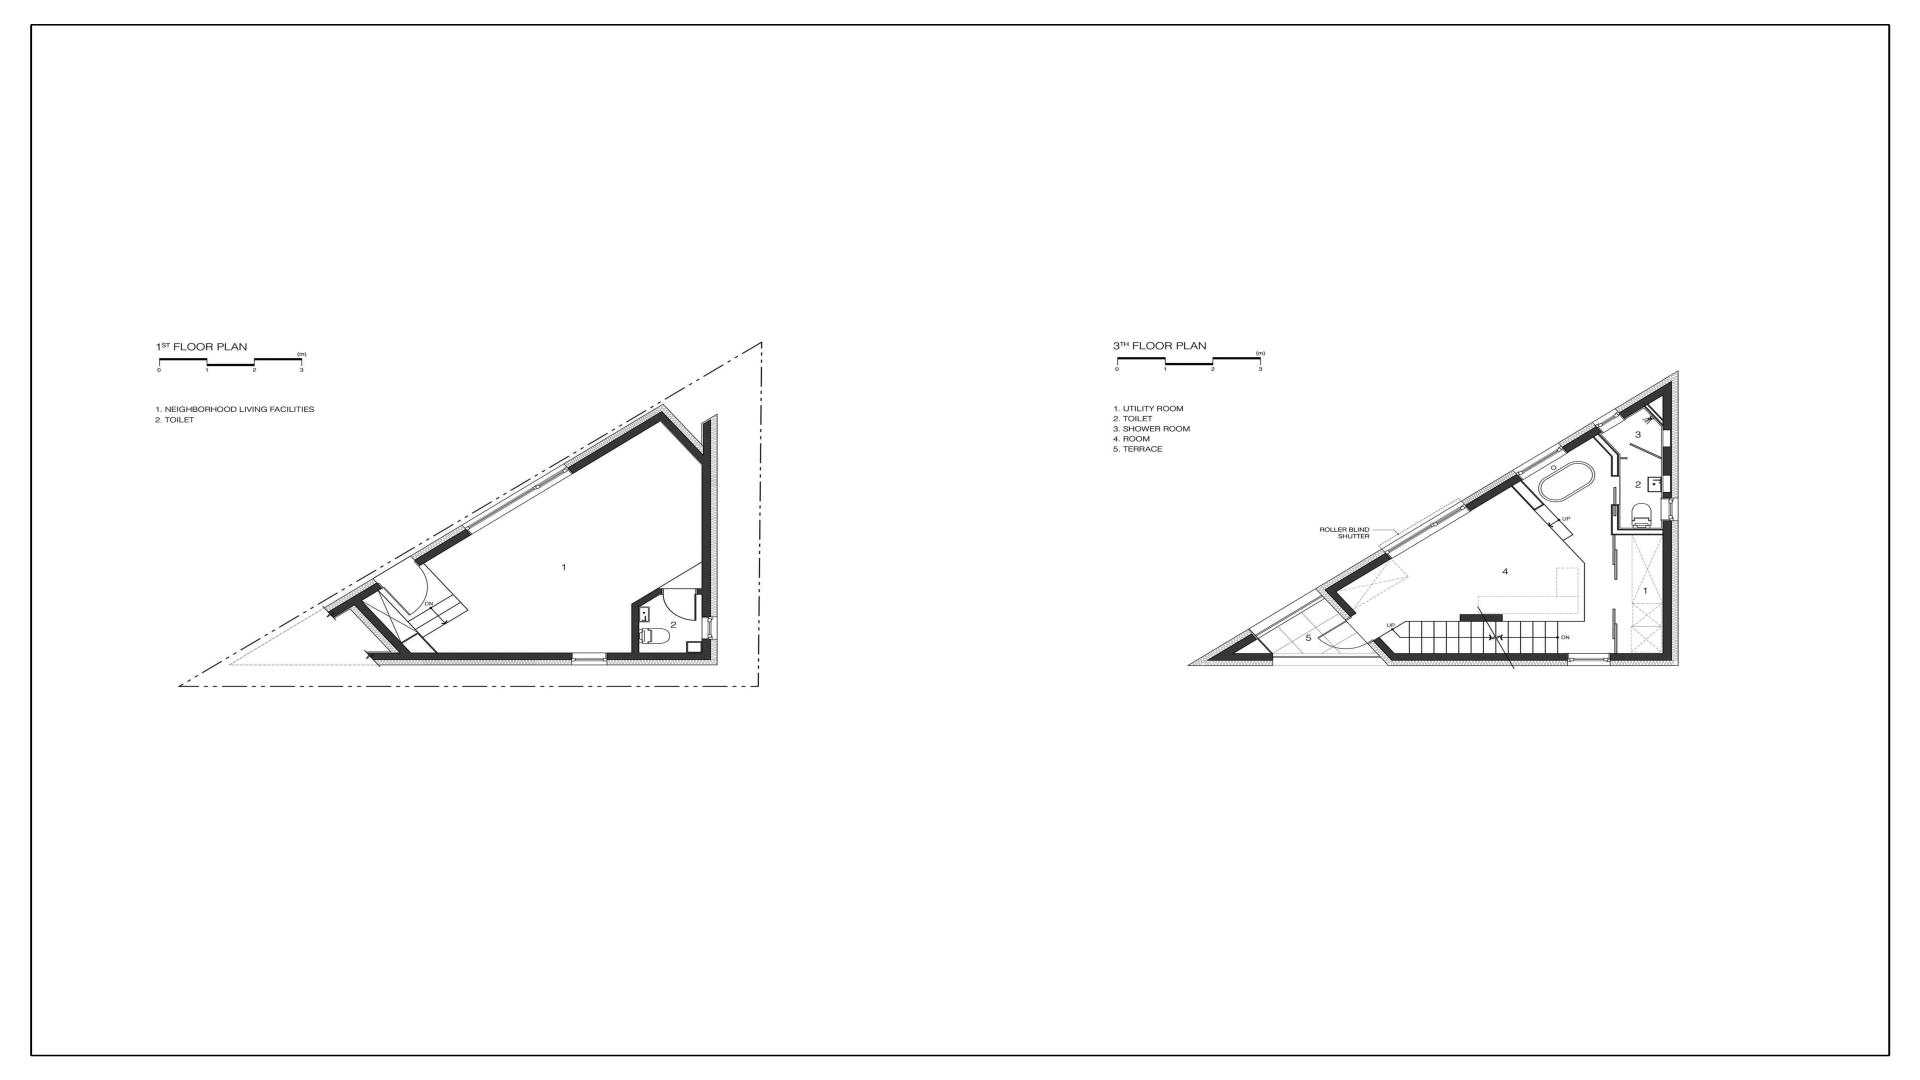door: (373, 555, 446, 616), (1317, 613, 1379, 661), (662, 588, 698, 621), (1619, 443, 1663, 459), (1613, 535, 1618, 653), (1611, 476, 1619, 529)
wall: (568, 415, 661, 473), (1324, 553, 1391, 596), (355, 601, 411, 653), (655, 411, 703, 465), (1465, 475, 1523, 512), (414, 529, 472, 566), (1619, 381, 1672, 418), (328, 583, 382, 618), (702, 419, 711, 617), (378, 591, 418, 633), (1207, 633, 1257, 661), (1393, 653, 1568, 661), (367, 653, 571, 659), (1663, 521, 1672, 653), (1561, 426, 1602, 452), (1511, 480, 1545, 510), (607, 653, 711, 661), (1331, 592, 1357, 617), (1593, 434, 1619, 456), (1373, 637, 1395, 661), (1207, 653, 1273, 661), (632, 588, 659, 607), (1610, 653, 1672, 661), (1379, 621, 1406, 638), (1644, 404, 1663, 426), (418, 633, 438, 653), (632, 604, 640, 653), (1663, 390, 1672, 430), (1460, 615, 1503, 622), (1611, 529, 1663, 535), (1663, 447, 1672, 475), (1258, 638, 1273, 654), (401, 632, 419, 644), (1611, 455, 1619, 476), (1663, 430, 1672, 447), (1663, 475, 1672, 492), (702, 640, 711, 653), (1406, 621, 1460, 622), (1663, 492, 1672, 497), (696, 588, 702, 595), (686, 641, 688, 653), (659, 588, 662, 595), (688, 651, 700, 653), (700, 641, 702, 653), (688, 641, 700, 642)
window: (462, 463, 574, 535), (1382, 501, 1472, 559), (1247, 588, 1325, 640), (1513, 443, 1568, 480), (1273, 653, 1389, 666), (1592, 409, 1626, 434), (1568, 653, 1610, 666), (1660, 497, 1679, 521), (571, 653, 607, 665), (702, 617, 717, 640)
